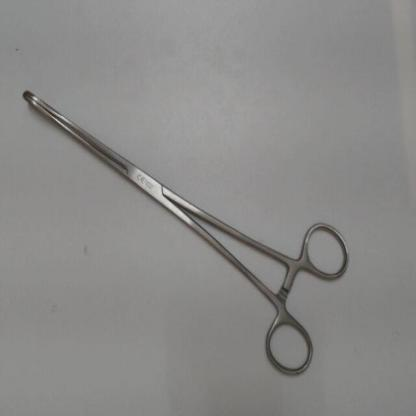Sponge Forceps: (16, 82, 358, 386)
